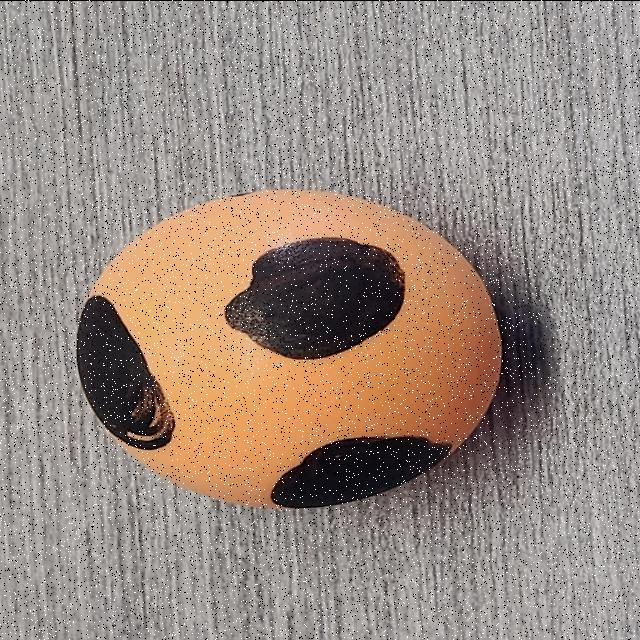ping-pong-ball: (70, 172, 528, 520)
